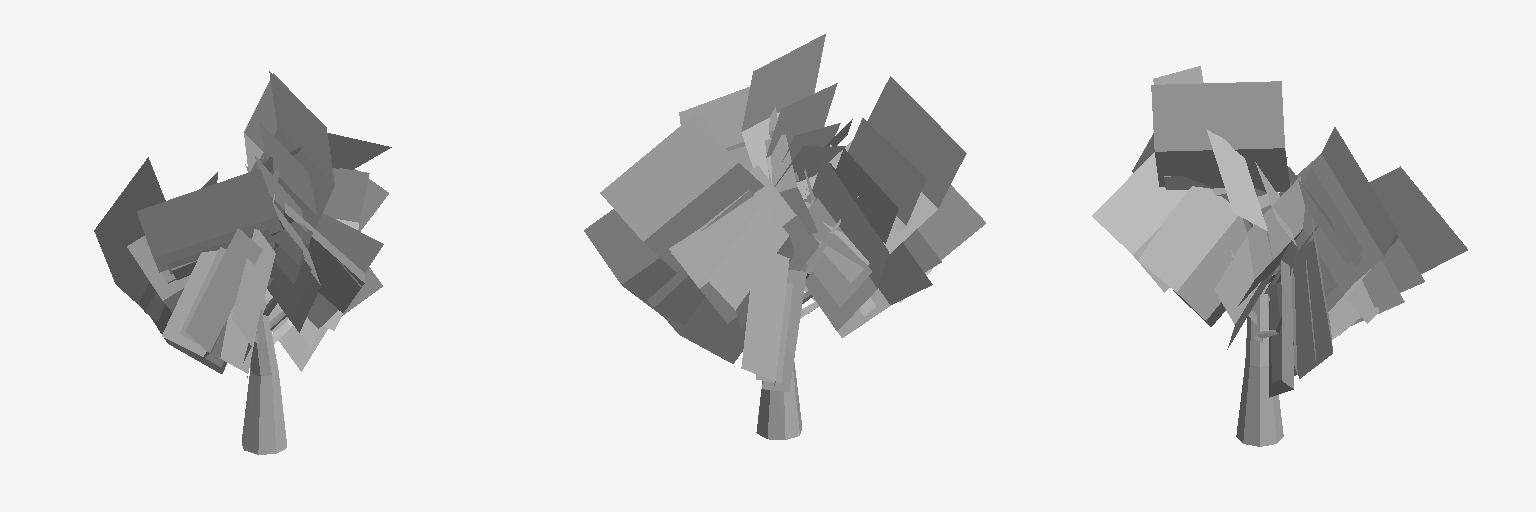
Rendered from acacia_bb_2.obj.
The picture shows the model from 3 angles: view 1: azimuth 30°, elevation 25°; view 2: azimuth 150°, elevation 25°; view 3: azimuth 270°, elevation 25°; orthographic projection.
Parts seen in each view (by area): view 1: plant; view 2: plant; view 3: plant.
Boxes of the visible parts, box(x1,y1,x2,y2) form: plant: box(94, 71, 391, 454); plant: box(584, 34, 985, 439); plant: box(1092, 66, 1467, 446).
Size of the model in its own units: 33.14 by 36.15 by 34.03.